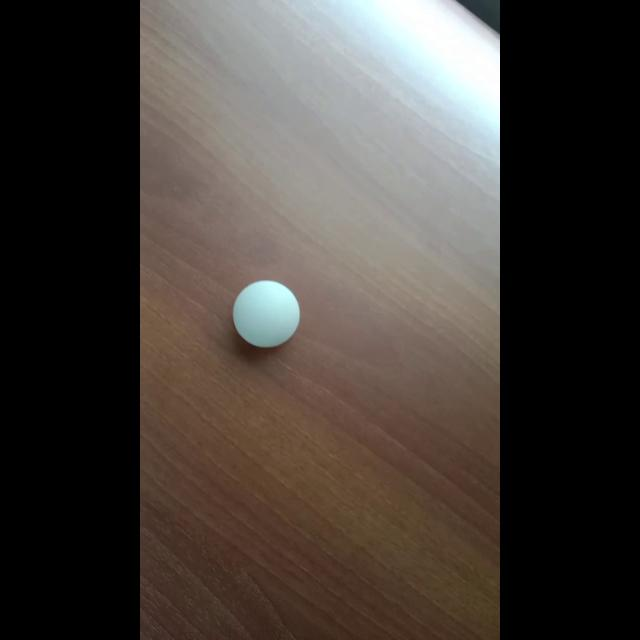white ball: (232, 279, 300, 349)
